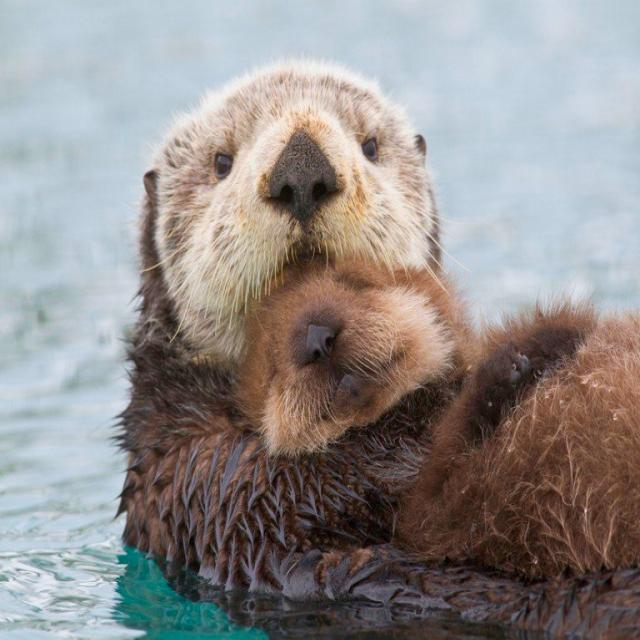otter: (119, 64, 462, 601), (241, 260, 640, 575)
